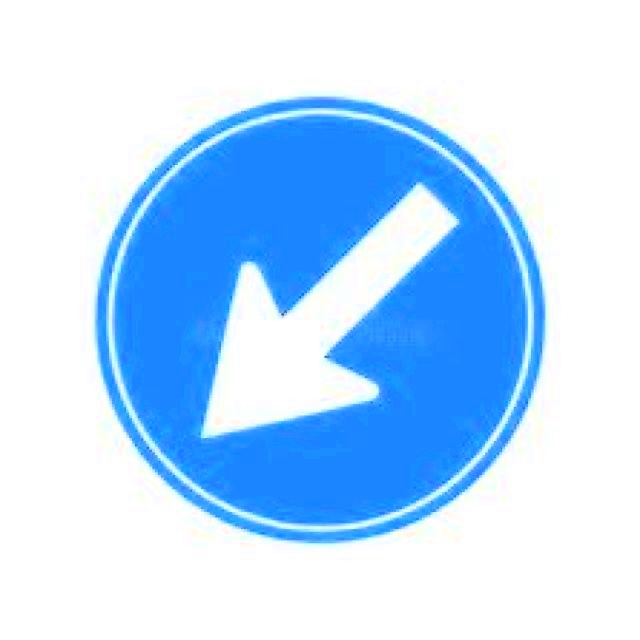R.301e: (89, 94, 548, 546)
